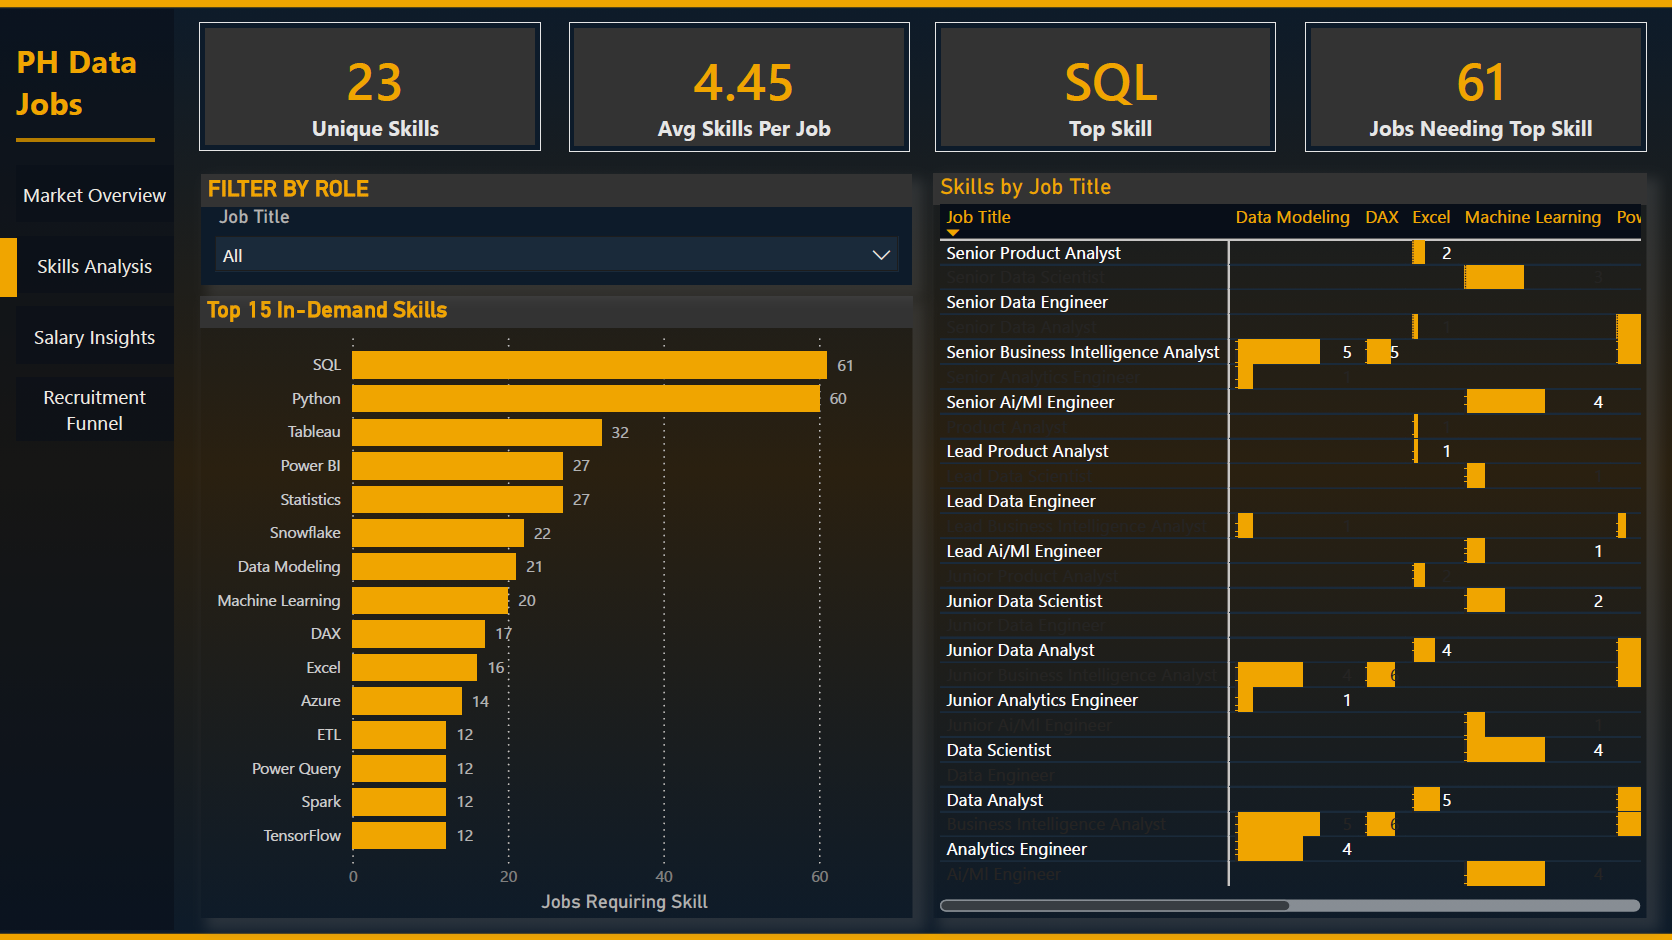

This screenshot's page, from the dashboard's own definition file:
{"tool":"powerbi","page":{"name":"Skills Analysis","canvas":[1280,720],"ordinal":1},"visuals":[{"type":"cardVisual","title":"Job Postings","fields":{"Data":["_Measures.Jobs Needing Top Skill"]},"box":[980,0,295,134],"z":0},{"type":"shape","box":[0,7.8,132,702.7],"z":0,"group":"g2"},{"type":"cardVisual","title":"Job Postings","fields":{"Data":["_Measures.Avg Skills Per Job"]},"box":[416.7,0,295,134],"z":1000},{"type":"cardVisual","title":"Job Postings","fields":{"Data":["_Measures.Top Skill 1"]},"box":[696.7,0,295,134],"z":2000},{"type":"cardVisual","title":"Job Postings","fields":{"Data":["_Measures.Unique Skills"]},"box":[135,0,295,133.3],"z":3000},{"type":"clusteredBarChart","title":"Top 15 In-Demand Skills","fields":{"Category":["dim_skills.skill_name"],"Y":["_Measures.Jobs Requiring Skill"]},"box":[153.3,226.7,543.3,475],"z":4000},{"type":"pivotTable","title":"Skills by Job Title","fields":{"Columns":["dim_skills.skill_name"],"Rows":["dim_jobs.job_title"],"Values":["_Measures.Jobs Requiring Skill"]},"box":[713.3,133.3,545,568.3],"z":5000},{"type":"slicer","title":"FILTER BY ROLE","fields":{"Values":["dim_jobs.job_title"]},"box":[153.8,133.8,542.5,83.8],"z":6000},{"type":"group","id":"g1","title":"Group 1","box":[0,7.8,132.2,702.7],"z":7000},{"type":"group","id":"g2","title":"Group 2","box":[0,7.8,132.2,702.7],"z":7001,"group":"g1"},{"type":"textbox","box":[6.9,25,108.6,98.6],"z":11000,"group":"g2"},{"type":"shape","box":[12,93.4,106.2,27.5],"z":12000,"group":"g2"},{"type":"actionButton","title":"Market Overview","box":[12.2,126.3,120,43.3],"z":13000,"group":"g2"},{"type":"actionButton","title":"Market Overview","box":[12.2,180.3,120,43.7],"z":14000,"group":"g2"},{"type":"actionButton","title":"Market Overview","box":[12.2,234.3,120,43.7],"z":15000,"group":"g2"},{"type":"actionButton","title":"Market Overview","box":[12.2,288.3,120,48.4],"z":16000,"group":"g2"},{"type":"shape","box":[0,182.5,12,44],"z":17000,"group":"g2"}]}

Visuals, with their boxes in screenshot pixels (x1, y1, x2, y2), scaled from the page's 1280x720 canvas onto the 1672x940 screenshot:
"Job Postings" cardVisual: (1280,0,1665,175)
shape: (0,10,172,928)
"Job Postings" cardVisual: (544,0,930,175)
"Job Postings" cardVisual: (910,0,1295,175)
"Job Postings" cardVisual: (176,0,562,174)
"Top 15 In-Demand Skills" clusteredBarChart: (200,296,910,916)
"Skills by Job Title" pivotTable: (932,174,1644,916)
"FILTER BY ROLE" slicer: (201,175,910,284)
"Group 1" group: (0,10,173,928)
"Group 2" group: (0,10,173,928)
textbox: (9,33,151,161)
shape: (16,122,154,158)
"Market Overview" actionButton: (16,165,173,221)
"Market Overview" actionButton: (16,235,173,292)
"Market Overview" actionButton: (16,306,173,363)
"Market Overview" actionButton: (16,376,173,440)
shape: (0,238,16,296)
